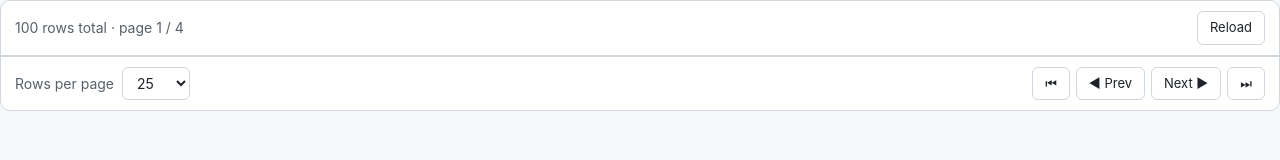
Scenario: EventsTable › pages forward with the right offset
Click the button "Next ▶" at (1186, 83), box [1151, 66, 1221, 100]
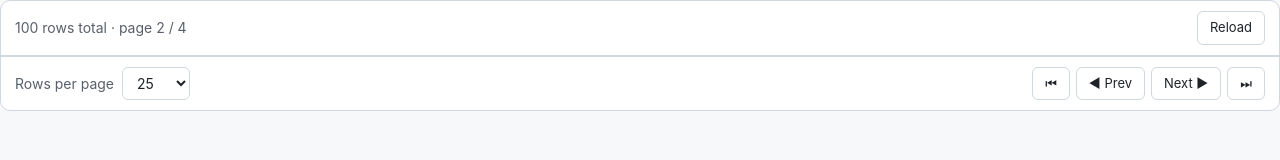
Result: the text "page 2 / 4" is shown at [15, 19, 187, 36]
